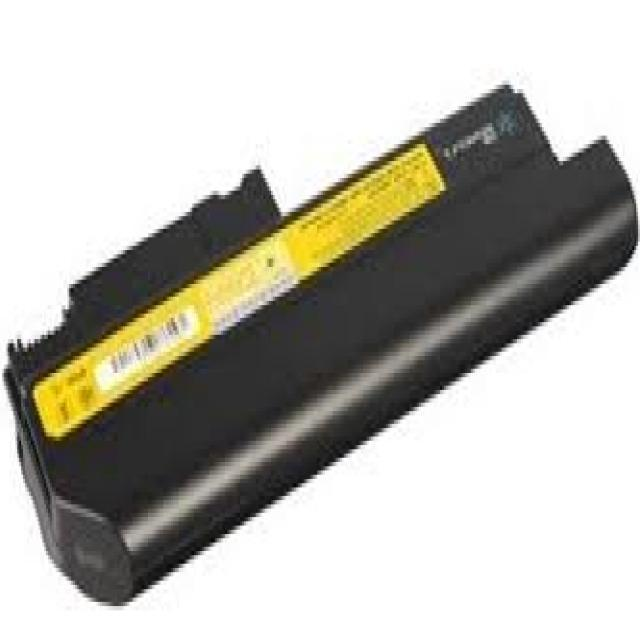battery: (4, 71, 636, 607)
